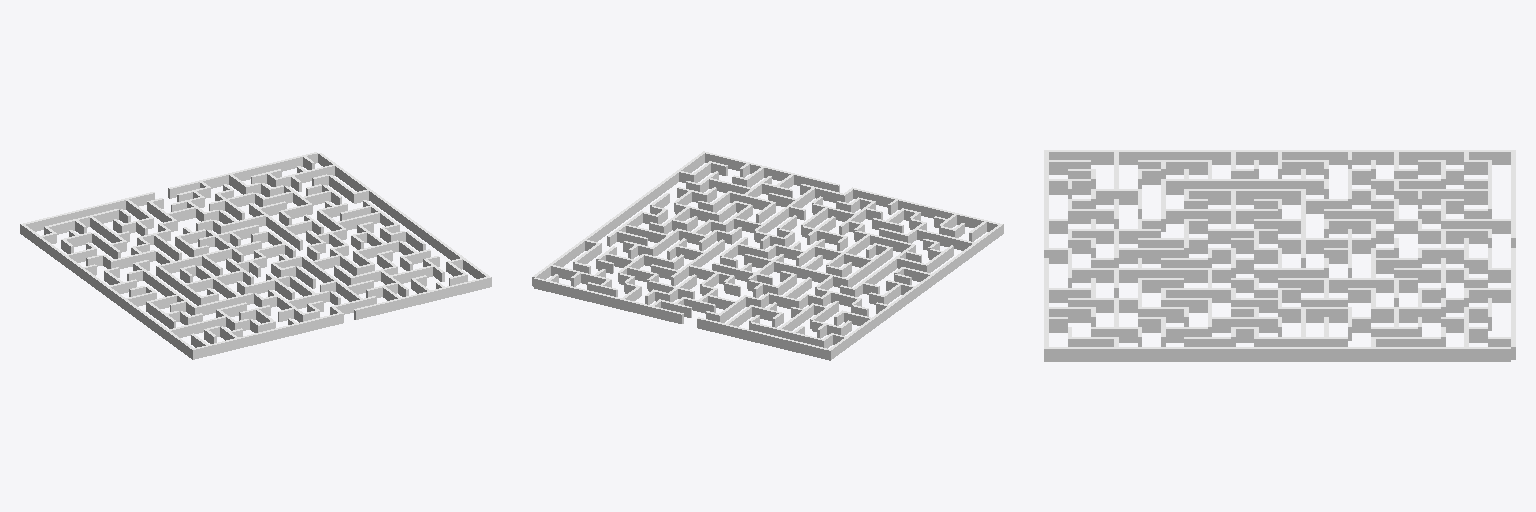
URDF robot description (tmaze.urdf):
<?xml version="0.0" ?>
<robot name="tmaze.urdf">
  <link  name="baseLink">
    <inertial>
      <origin rpy="0 0 0" xyz="0 0 0"/>
       <mass value="0"/>
       <inertia ixx="0" ixy="0" ixz="0" iyy="0" iyz="0" izz="0" />
    </inertial>
    <visual>
      <origin rpy="1.5707963 0 0" xyz="0 0 0"/>
      <geometry>
		    <mesh filename="complex_maze_1.obj" scale="3 1 3"/>
      </geometry>
		  <material name="white">
          <color rgba="1 1 1 1"/>
      </material>
    </visual>
    <collision>
      <origin rpy="1.5707963 0 0" xyz="0 0 0"/>
      <geometry>
          <mesh filename="complex_maze_1.obj" scale="3 1 3"/>
      </geometry>
    </collision>
  </link>
</robot>

--- What the picture shows (computed from the rendered views, not written in the file) ---
Views: 3 orthographic renders of the robot side by side, from view 1: azimuth 30°, elevation 25°; view 2: azimuth 150°, elevation 25°; view 3: azimuth 270°, elevation 25°.
Robot: tmaze.urdf — 1 links, 0 joints (none); root link baseLink; default pose: all joints at 0.
Links seen in each view (by area): view 1: baseLink; view 2: baseLink; view 3: baseLink.
Boxes of the visible links, <box> form: baseLink: <box>20,152,491,359</box>; baseLink: <box>532,151,1003,360</box>; baseLink: <box>1044,150,1515,361</box>.
Bounding box of the posed robot: 30.25 × 30.25 × 2.88 m (x, y, z).
Meshes: 1 distinct files referenced, 1 mesh visuals loaded (1 OBJ).
